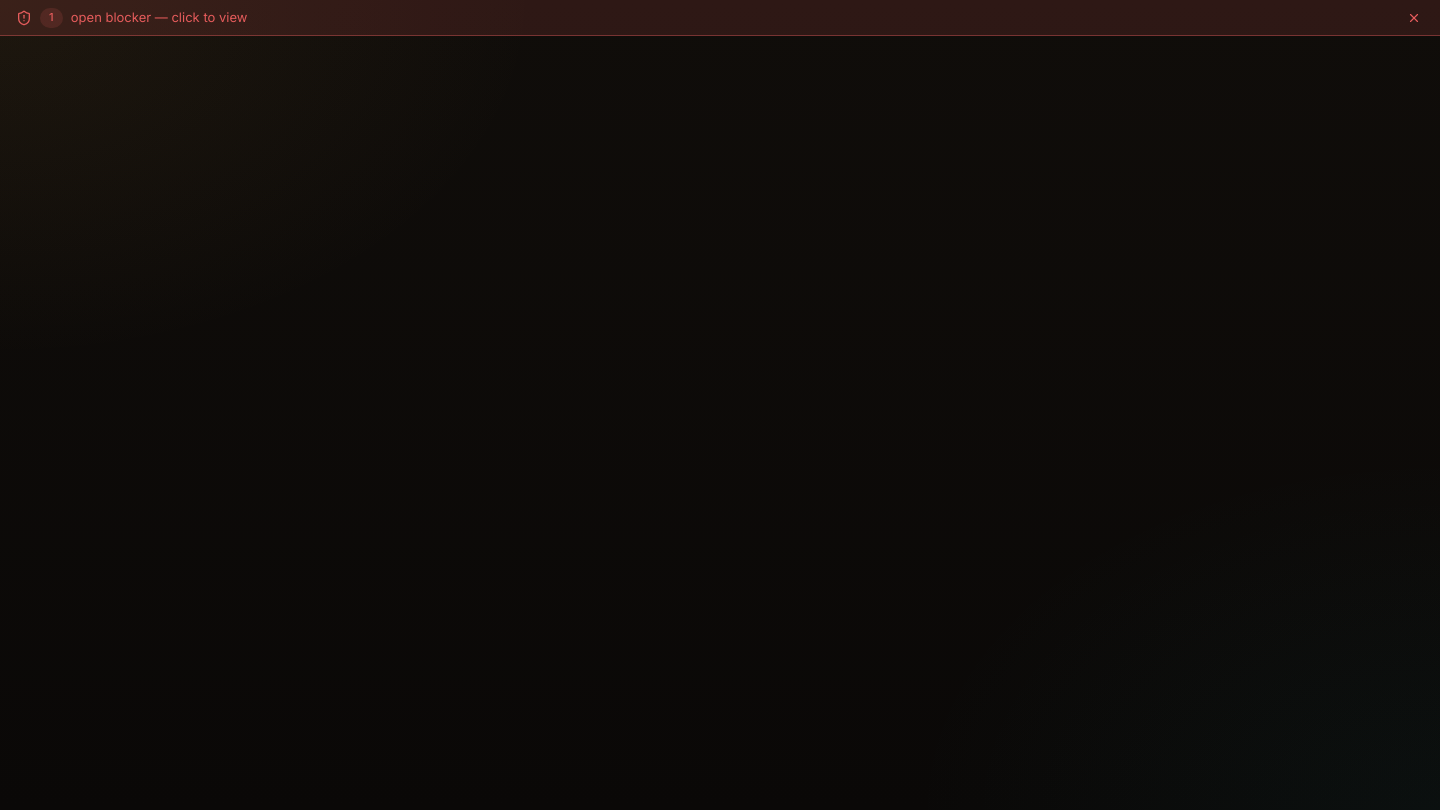
Test: <BlockersBanner> › drawer opens on banner click
Click the button with test id "blockers-banner" at (111, 17), box [0,0,1439,36]
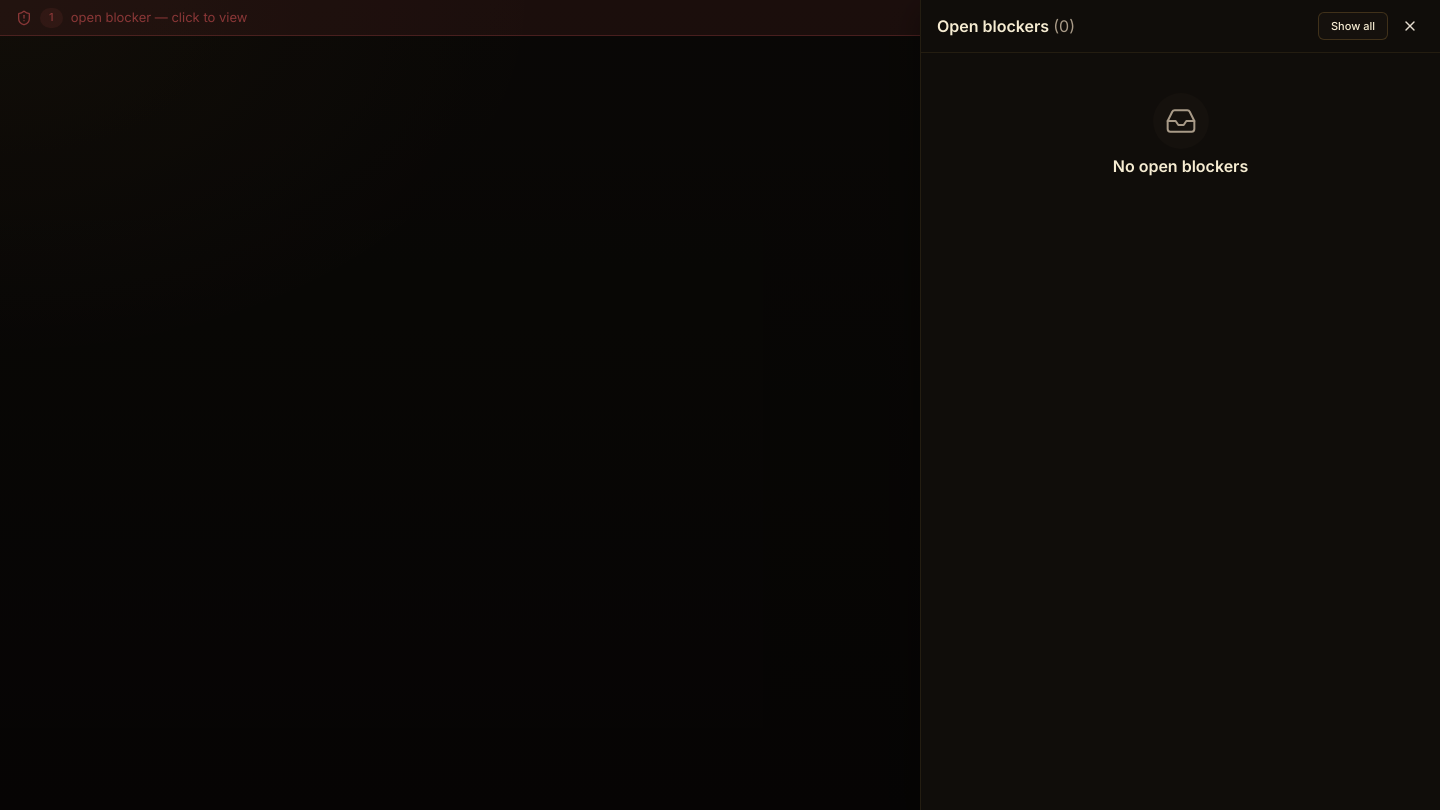
expect the element with test id "blockers-drawer" is shown: met
